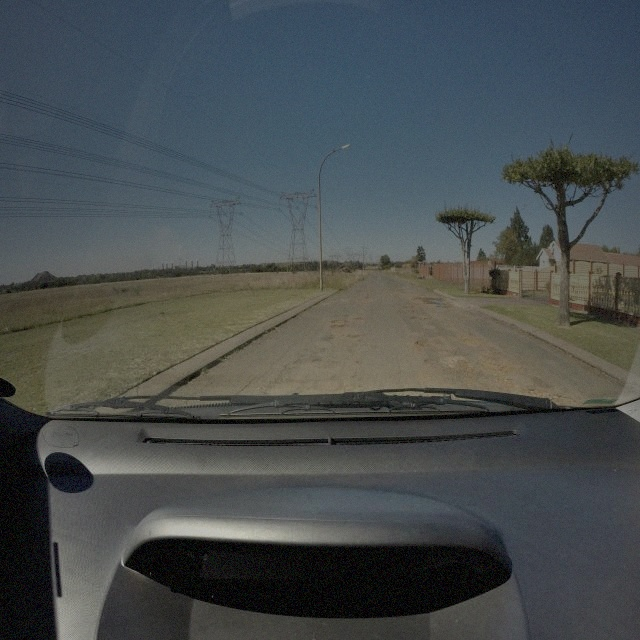pothole: (529, 389, 563, 405), (486, 360, 516, 376), (456, 360, 476, 381), (498, 378, 516, 390), (465, 336, 482, 348), (416, 338, 432, 350), (332, 319, 347, 325), (412, 317, 428, 322), (425, 359, 436, 366), (404, 304, 415, 311), (348, 334, 360, 340), (332, 324, 345, 328)
